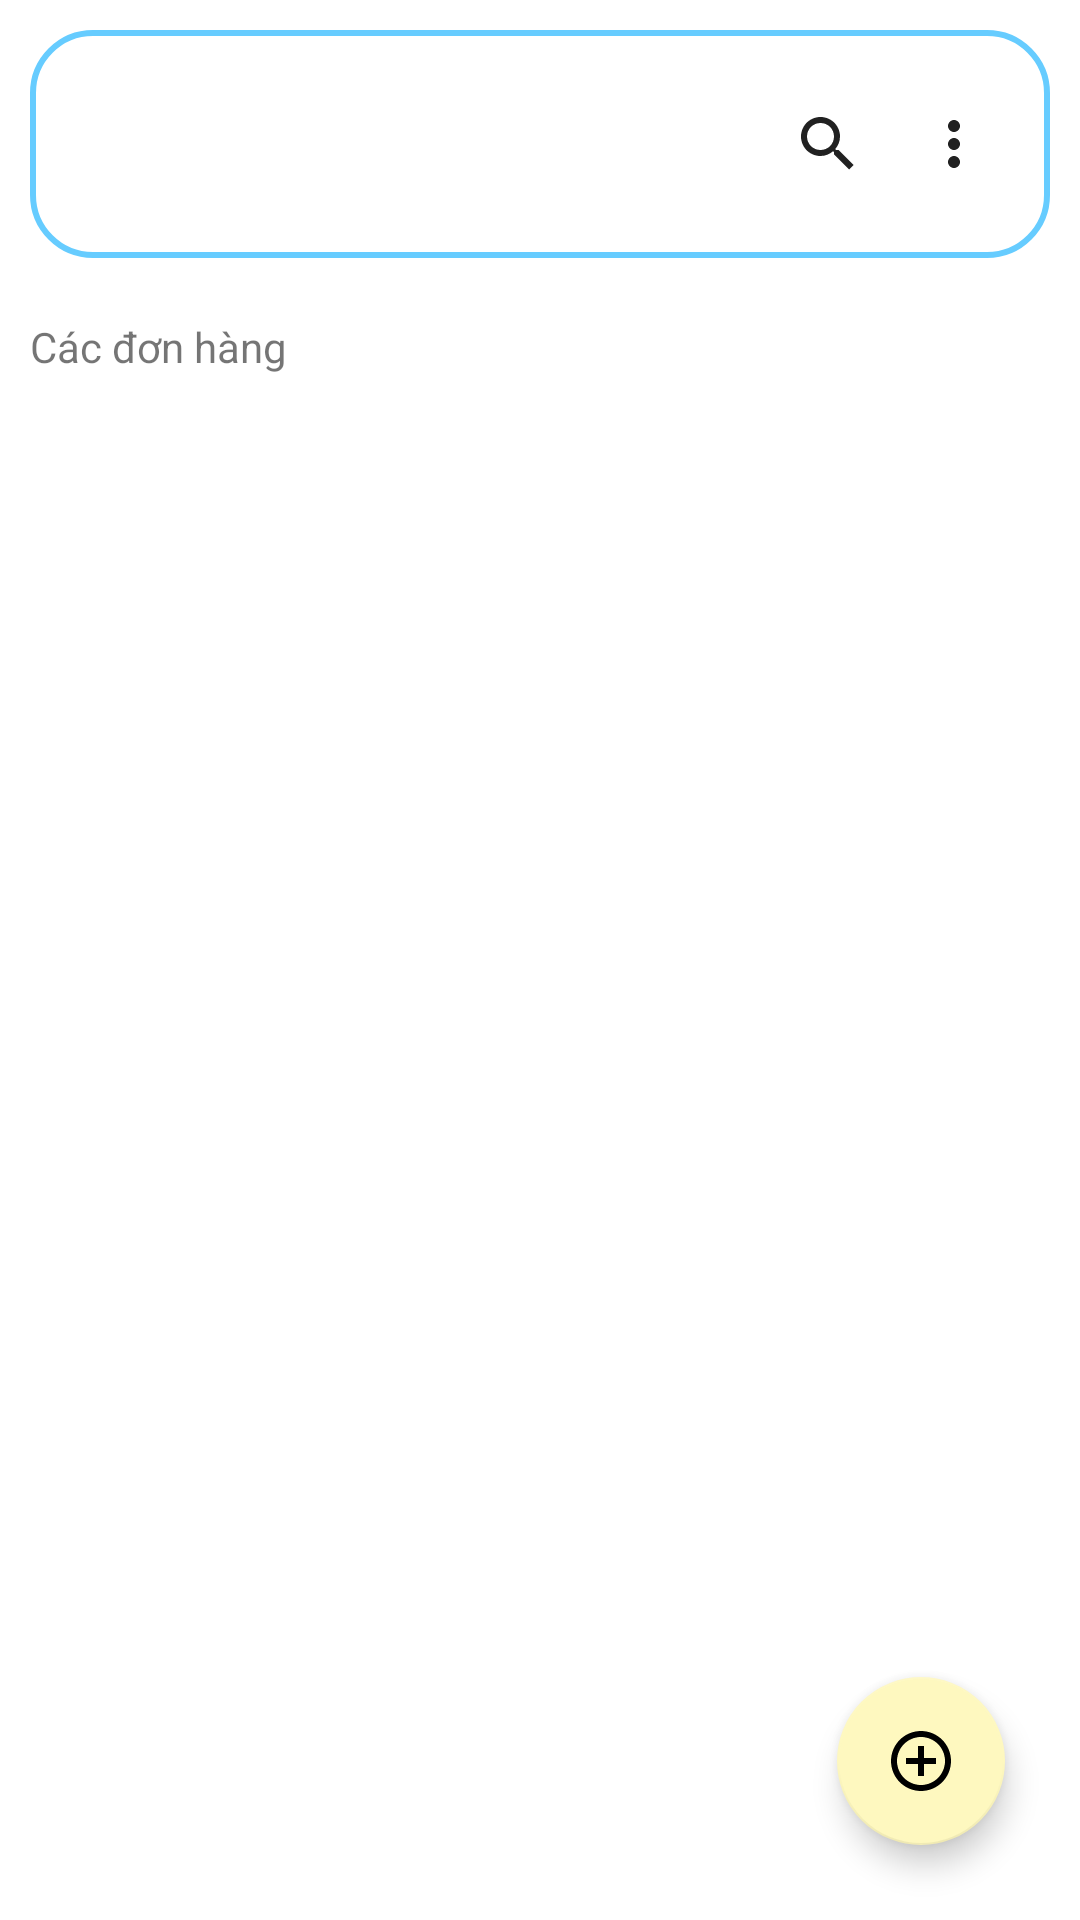

Icon click points for this 1080px×1920px phone screenshot, format (x,y):
add circle: (921,1761)
